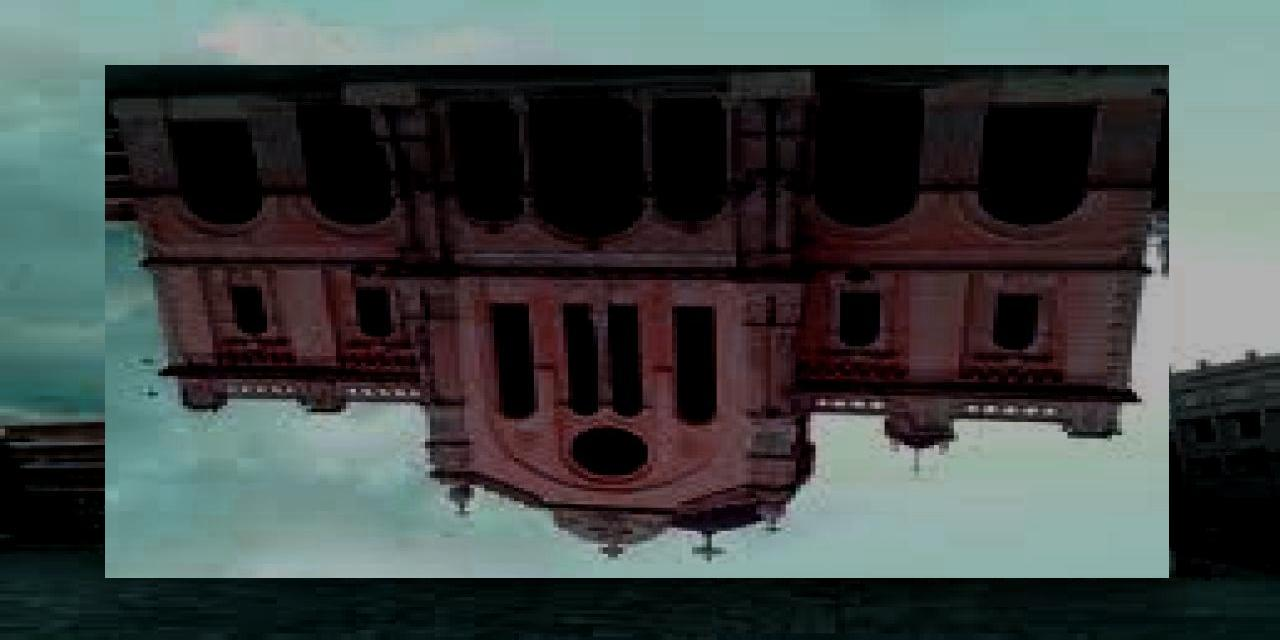Agios Minas: (106, 66, 1170, 579)
